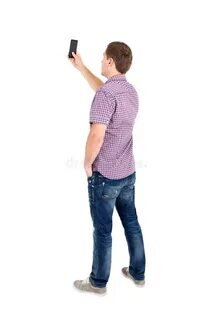awake: (70, 38, 147, 295)
